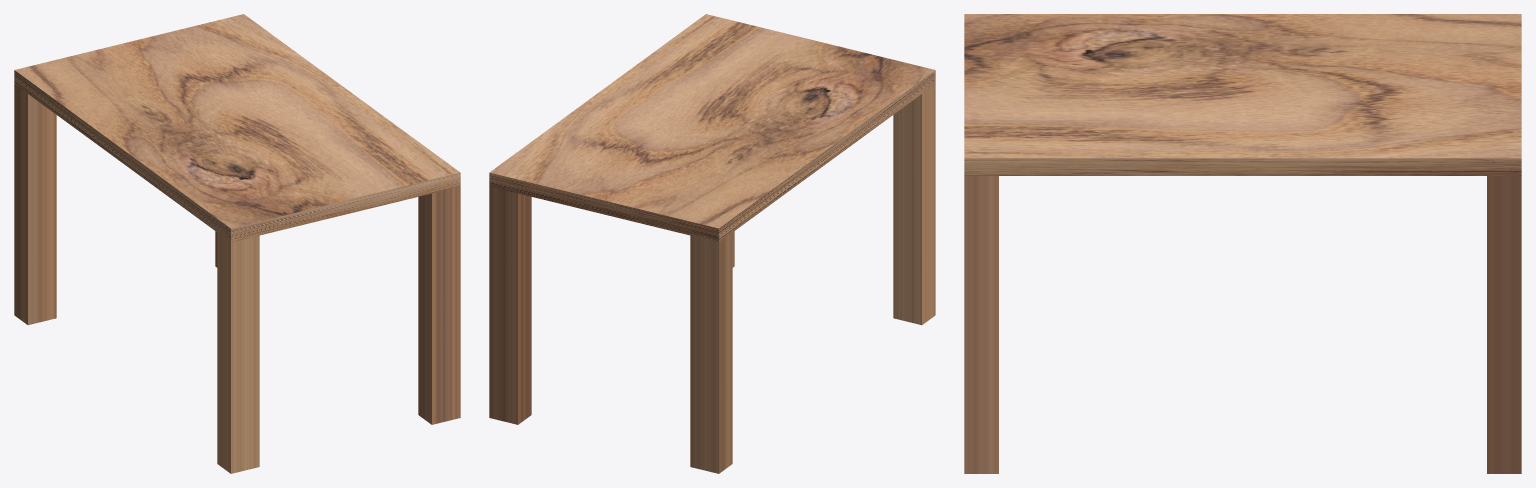
File: Table.fbx
3 views of the same model, side by side, from view 1: azimuth 30°, elevation 25°; view 2: azimuth 150°, elevation 25°; view 3: azimuth 270°, elevation 25° (orthographic). The views are drawn at different scales.
Parts seen in each view (by area): view 1: Table; view 2: Table; view 3: Table.
Part boxes in pixels (x1=…): Table: x1=14, y1=14, x2=460, y2=473; Table: x1=489, y1=14, x2=935, y2=473; Table: x1=964, y1=14, x2=1521, y2=473.
Size of the model in its own units: 455 by 465 by 744.
